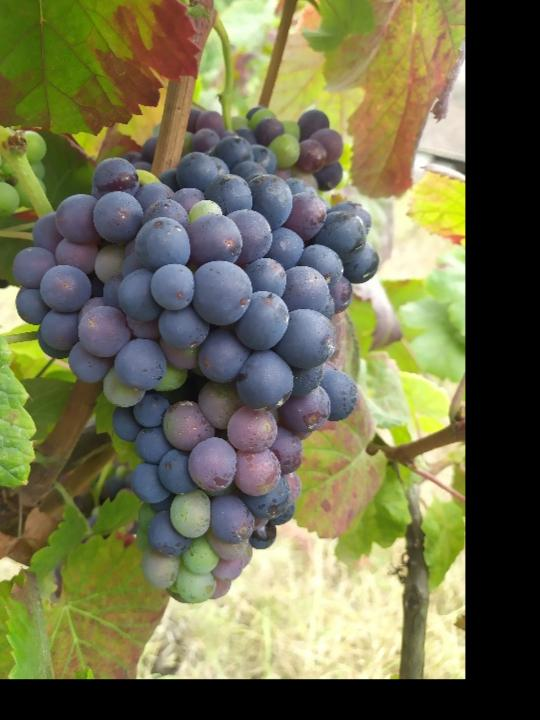grape: (10, 150, 379, 602)
